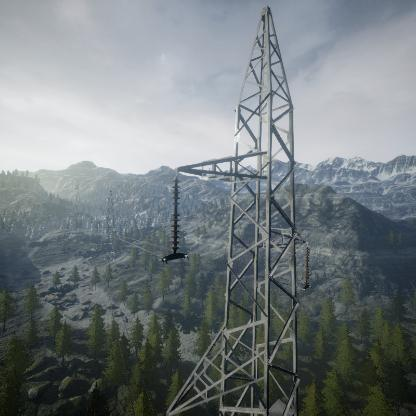insulator: (169, 177, 182, 252), (302, 247, 312, 287)
tower: (155, 1, 318, 416)
